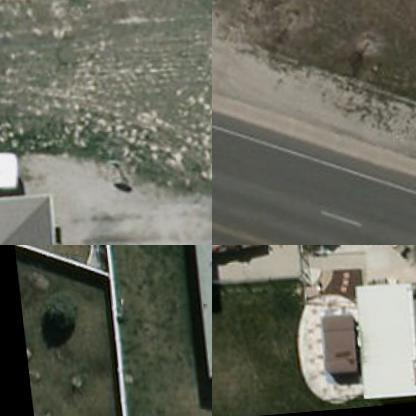pickup: (212, 245, 260, 260)
